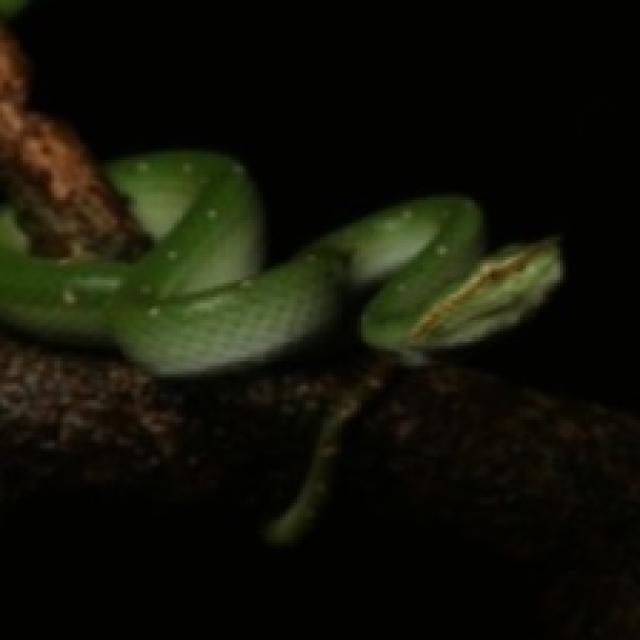north ph temple pitviper: (0, 151, 560, 374)
